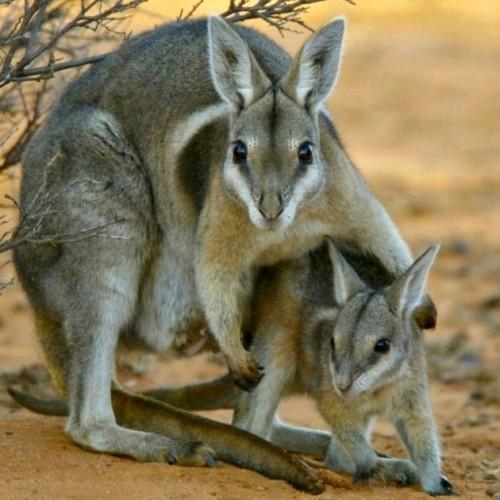Bridled-nail-tail wallaby: (13, 13, 439, 467), (8, 237, 455, 497)
